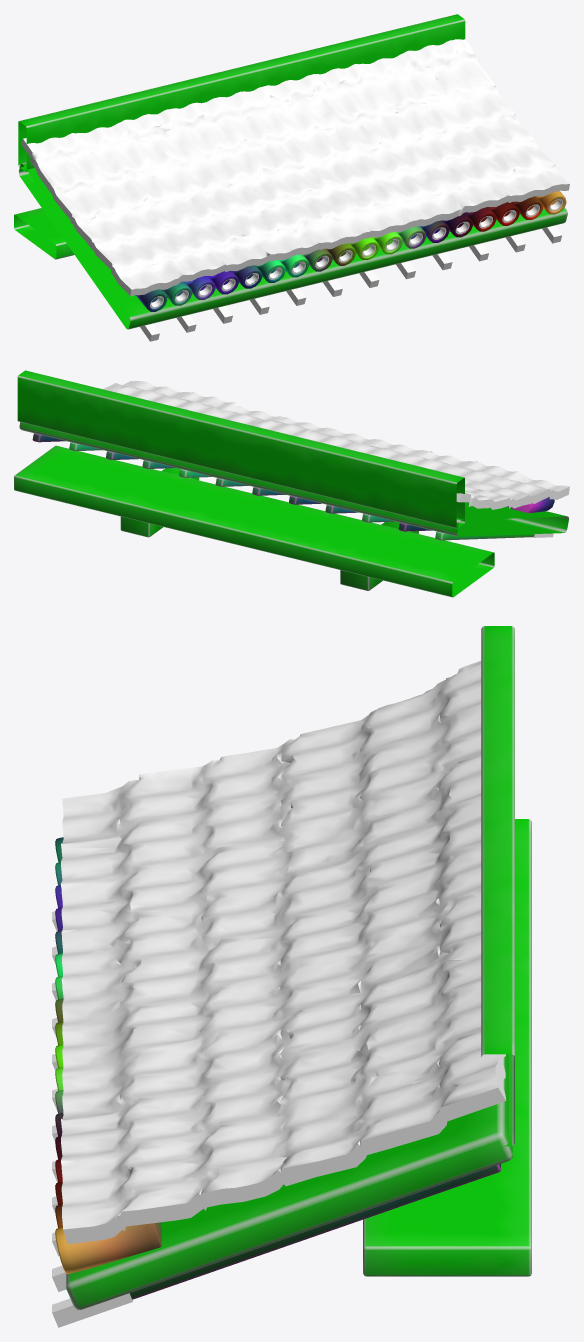
File: overhang_side_300_01.fbx
The picture shows the model from 3 angles, top to bottom: view 1: azimuth 30°, elevation 25°; view 2: azimuth 150°, elevation 25°; view 3: azimuth 270°, elevation 25°; orthographic projection. The views are drawn at different scales.
Visible parts, largest first — view 1: overhang_side_300_01; view 2: overhang_side_300_01; view 3: overhang_side_300_01.
Boxes of the visible parts, box(x1,y1,x2,y2) form: overhang_side_300_01: box(14, 14, 569, 341); overhang_side_300_01: box(14, 370, 569, 597); overhang_side_300_01: box(52, 626, 531, 1327).
Bounding box in the file's own units: 3 × 0.9271 × 1.42.
